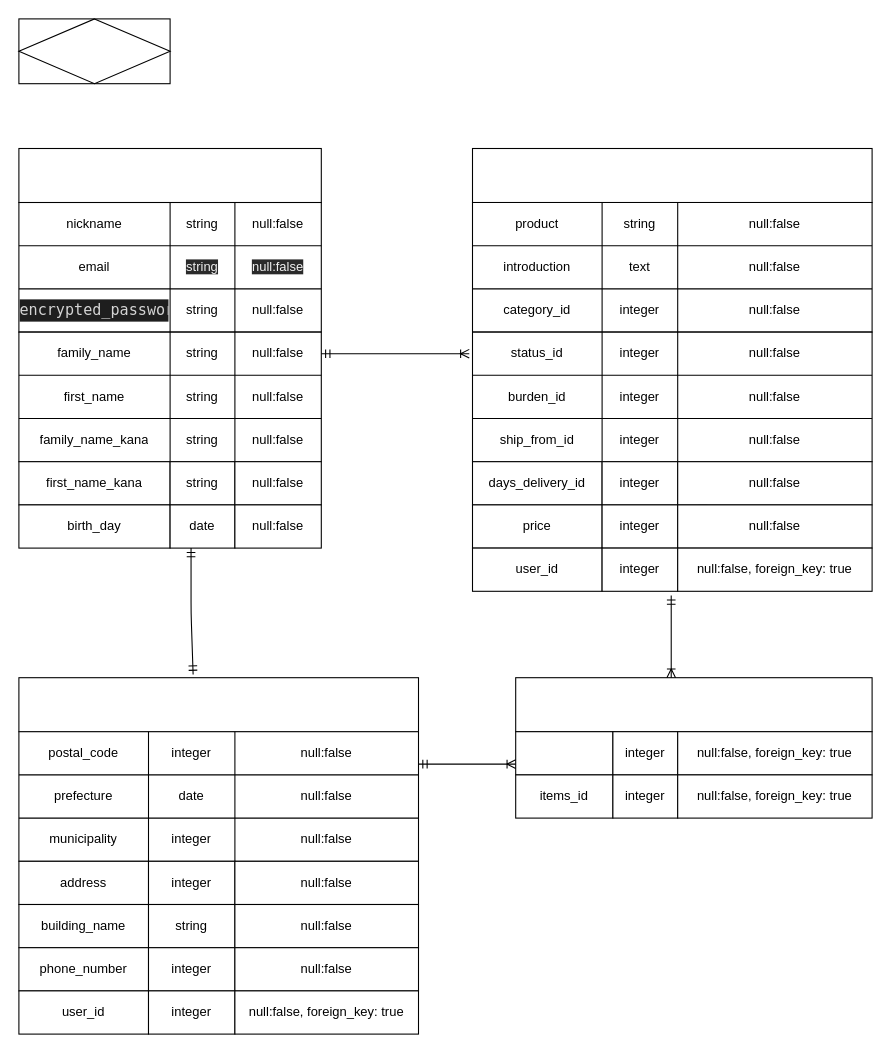
The diagram is 891 pixels wide and 1053 high, and some of its shapes have lost their labels. The box of each missing label's shape, as (x1, y1, x2, y2) in pixels:
Buyer: (18, 677, 418, 732)
buyer_id: (515, 731, 613, 775)
ER図: (18, 18, 170, 84)
Items: (471, 147, 872, 202)
Purchase_history: (515, 677, 872, 732)
Users: (18, 147, 321, 202)
